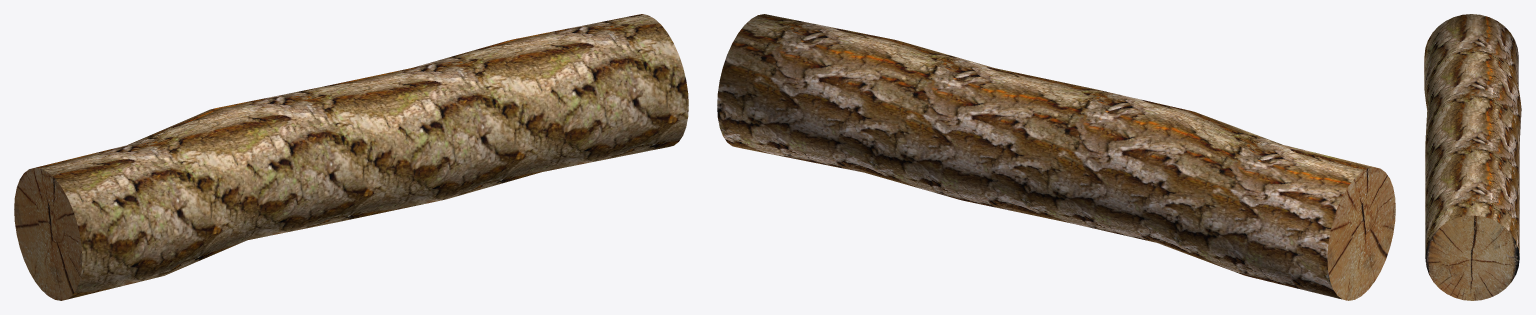
File: log2.glb
3 views of the same model, side by side, from view 1: azimuth 30°, elevation 25°; view 2: azimuth 150°, elevation 25°; view 3: azimuth 270°, elevation 25° (orthographic). The views are drawn at different scales.
Visible parts, largest first — view 1: log2; view 2: log2; view 3: log2.
Boxes of the visible parts, box(x1,y1,x2,y2) form: log2: box(14, 14, 688, 300); log2: box(717, 14, 1395, 300); log2: box(1424, 14, 1521, 300).
Size of the model in its own units: 2.7 by 0.5823 by 0.5412.
Materials: 1 (1 with a texture image).
